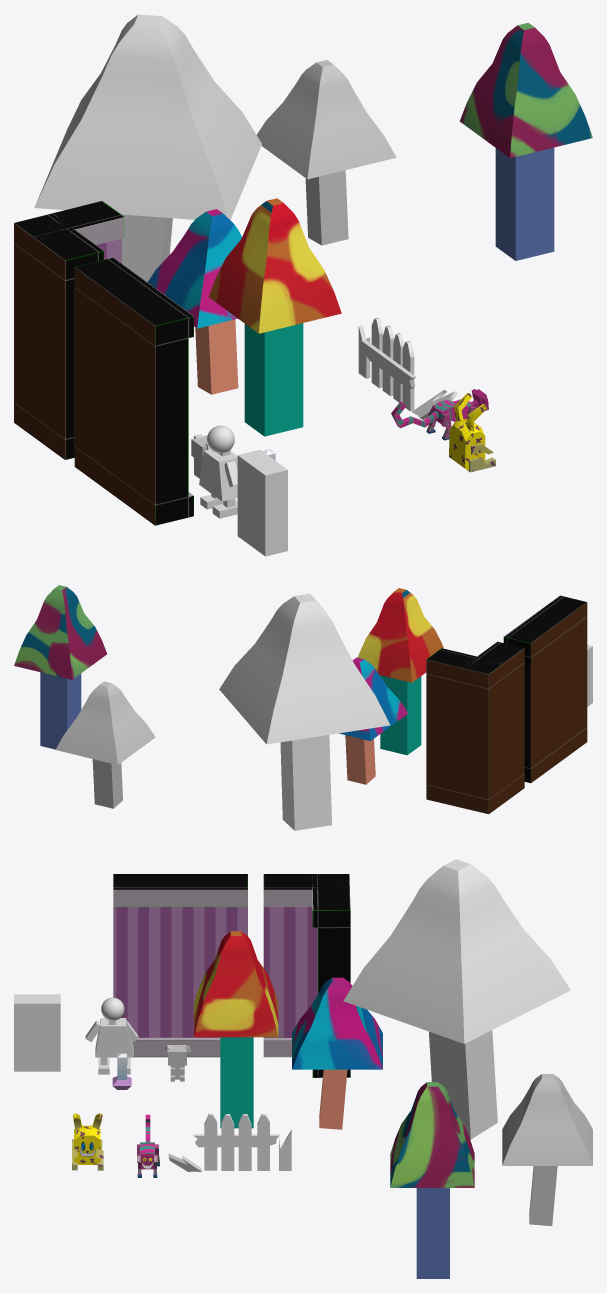
File: Shroom 2.FBX
3 views of the same model, one above another, from view 1: azimuth 30°, elevation 25°; view 2: azimuth 150°, elevation 25°; view 3: azimuth 270°, elevation 25° (orthographic). The views are drawn at different scales.
Parts seen in each view (by area): view 1: Shroom 003, Mur, Shroom 1, Shroom 004, Mur 2, Shroom 005, Shroom 2, Pf cube, Box007, Fille mod, Bunny, Singe; view 2: Shroom 003, Mur 2, Mur, Shroom 004, Shroom 1, Shroom 005, Shroom 2, Pf cube; view 3: Shroom 003, Mur, Mur 2, Shroom 004, Shroom 1, Shroom 005, Shroom 2, Box007, Pf cube, Fille mod, Bunny, Singe (+1 smaller).
Boxes of the visible parts, x1,y1,x2,y2 form: Shroom 003: [34, 14, 261, 281]; Mur: [74, 257, 193, 525]; Shroom 1: [208, 198, 341, 436]; Shroom 004: [459, 22, 592, 260]; Mur 2: [14, 201, 124, 459]; Shroom 005: [257, 60, 396, 245]; Shroom 2: [147, 209, 241, 394]; Pf cube: [237, 449, 287, 556]; Box007: [358, 317, 457, 419]; Fille mod: [199, 425, 237, 518]; Bunny: [449, 393, 495, 472]; Singe: [391, 389, 488, 440]; Shroom 003: [219, 593, 390, 830]; Mur 2: [426, 641, 524, 814]; Mur: [503, 595, 587, 783]; Shroom 004: [14, 585, 106, 749]; Shroom 1: [358, 588, 443, 755]; Shroom 005: [55, 681, 155, 808]; Shroom 2: [339, 657, 408, 784]; Pf cube: [587, 645, 592, 706]; Shroom 003: [343, 859, 570, 1139]; Mur: [113, 874, 247, 1057]; Mur 2: [263, 874, 350, 1077]; Shroom 004: [390, 1082, 474, 1278]; Shroom 1: [194, 931, 278, 1128]; Shroom 005: [502, 1074, 592, 1226]; Shroom 2: [292, 977, 382, 1129]; Box007: [168, 1113, 291, 1171]; Pf cube: [14, 994, 60, 1071]; Fille mod: [85, 997, 138, 1074]; Bunny: [72, 1113, 103, 1170]; Singe: [137, 1114, 159, 1177].
Bounding box in the file's own units: 1037 × 519 × 1028.
